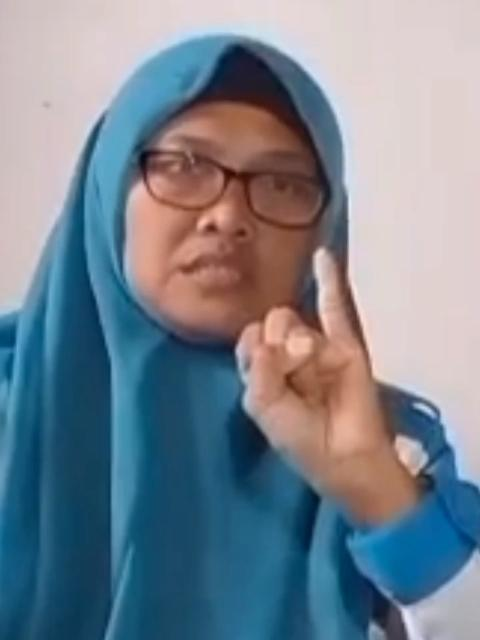I: (222, 248, 392, 474)
